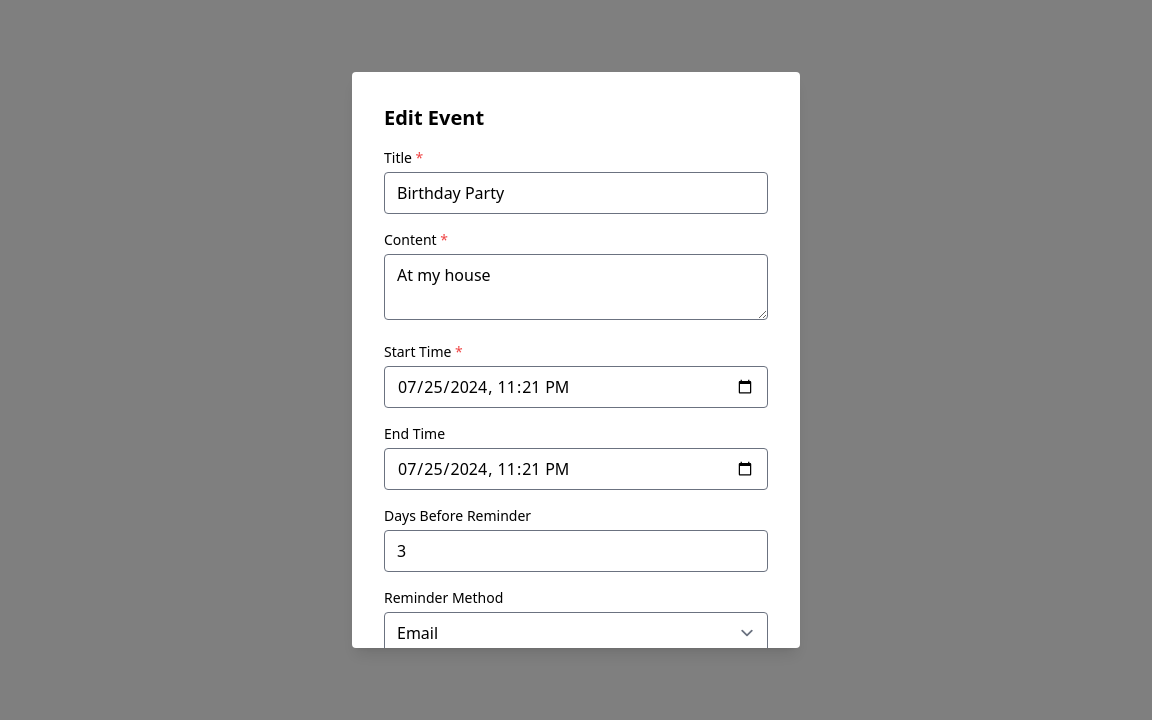
Test: EditEventDialog › validates form inputs before submitting
// Clear required fields and try to submit
Step 1. Clear the field with test id "title" → (576, 193), box [384,172,768,214]
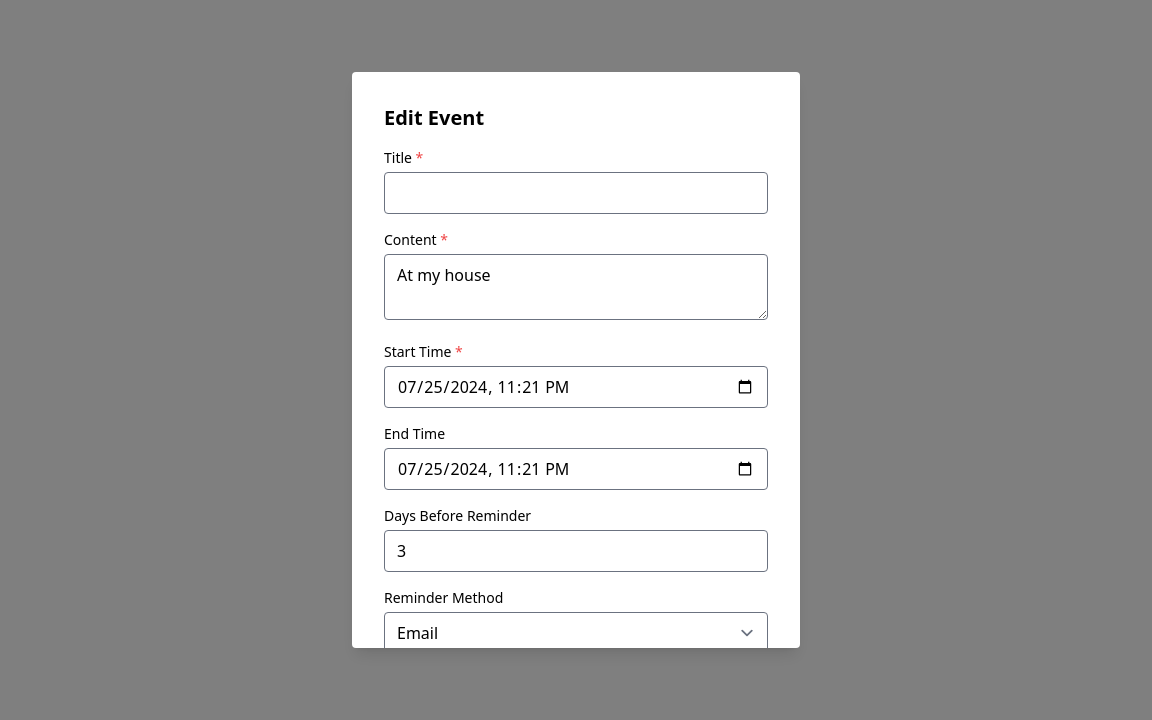
Step 2. Clear the text box with test id "content" → (576, 287), box [384,254,768,320]
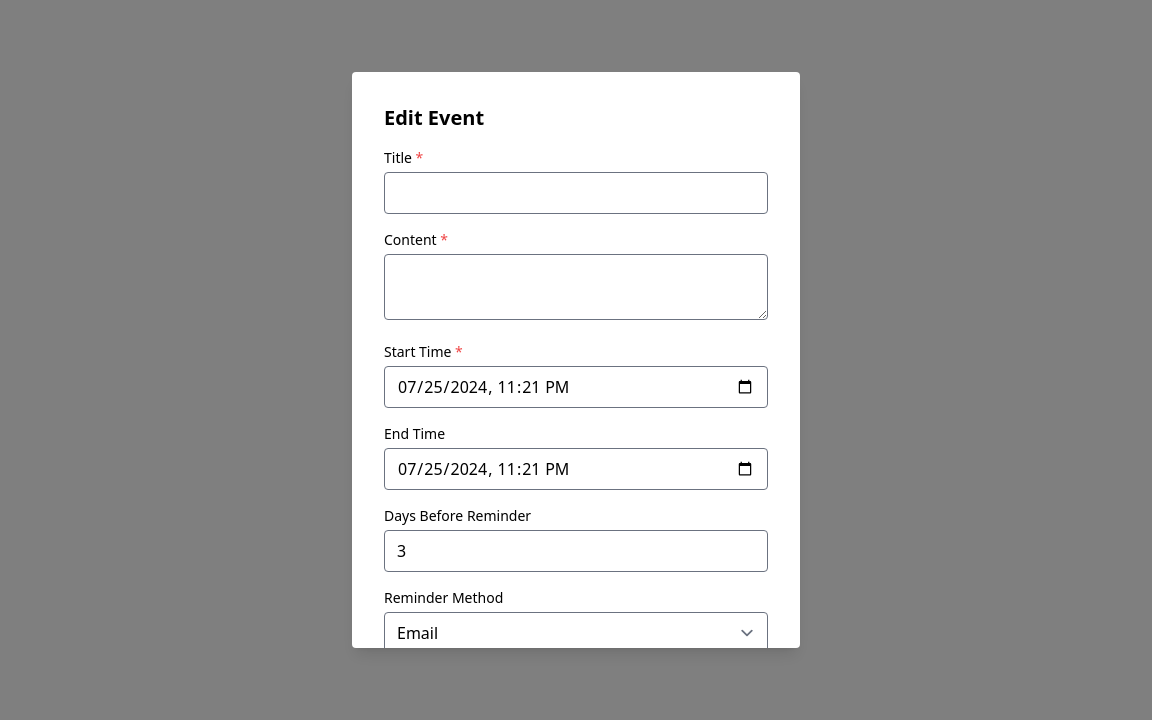
Step 3. Clear the field with test id "startTime" → (576, 387), box [384,366,768,408]
(page scrolled)
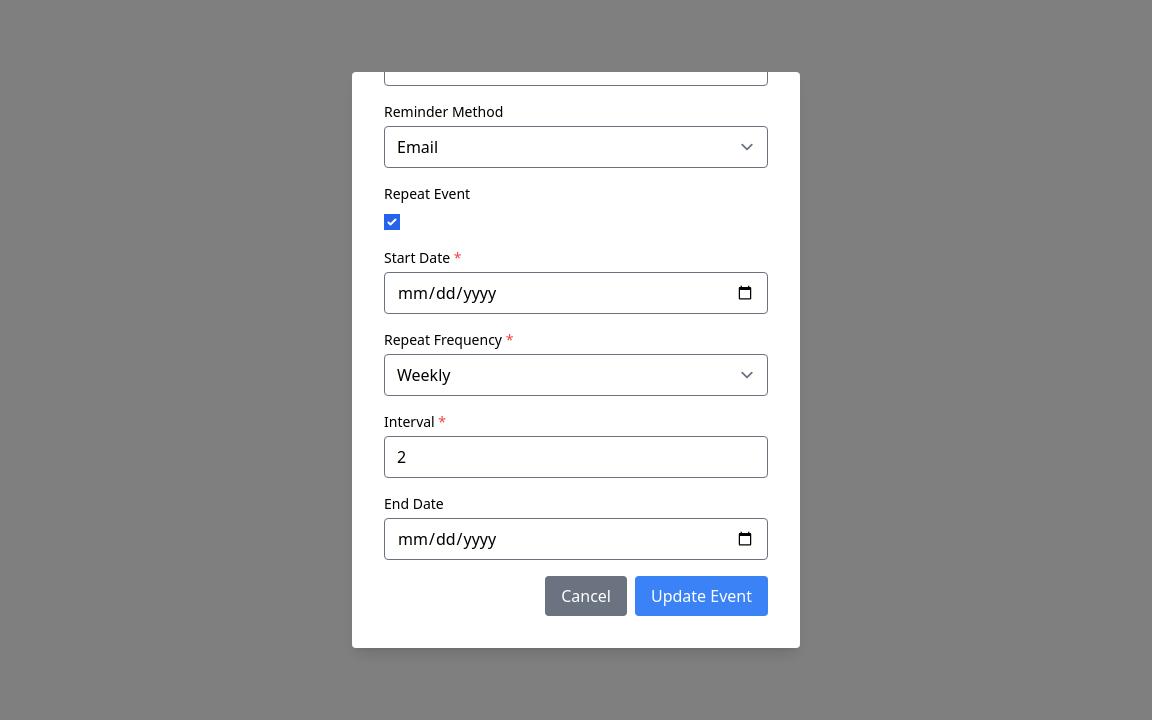
Step 4. Submit the form from the button "Update Event", box [635,576,768,616]
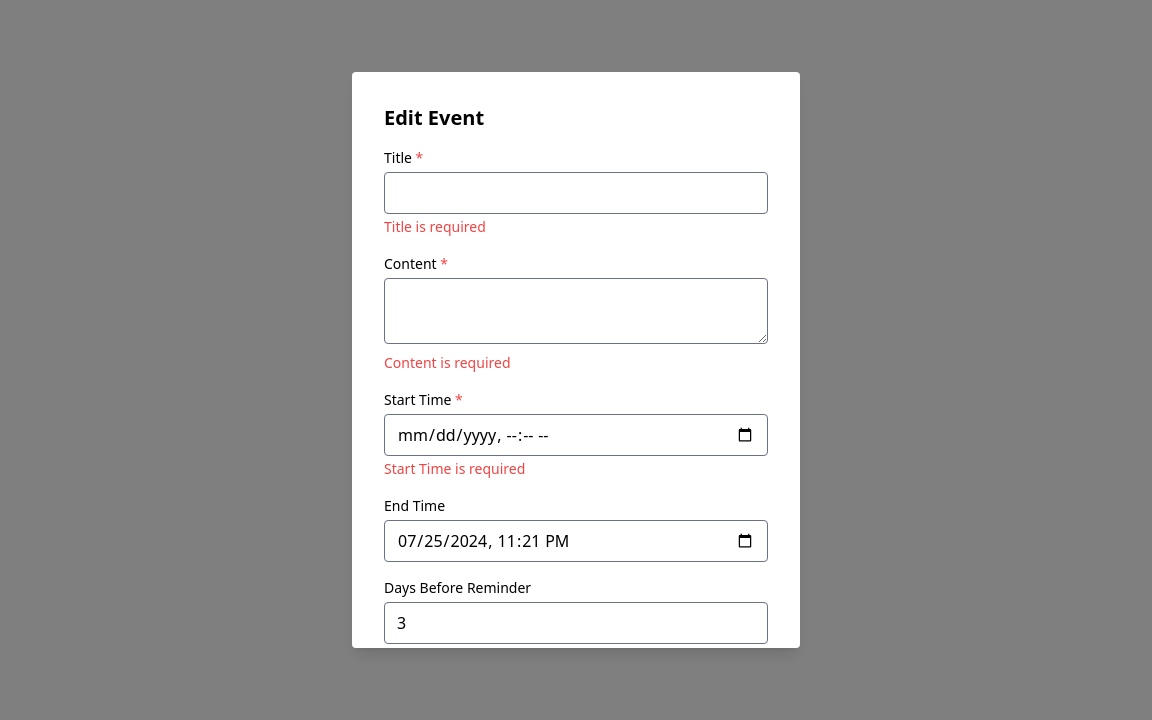
expect the text "Title is required" is shown: met, box [384,217,486,236]
expect the text "Content is required" is shown: met, box [384,353,510,372]
expect the text "Start Time is required" is shown: met, box [384,459,525,478]
